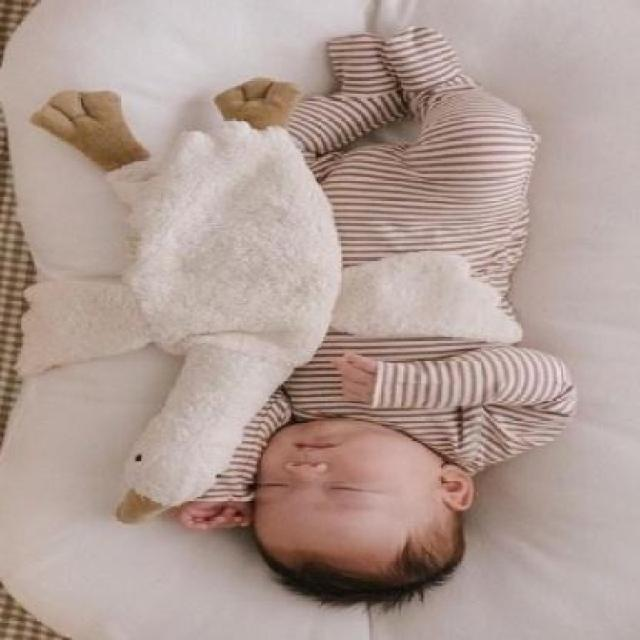baby: (34, 32, 577, 610)
